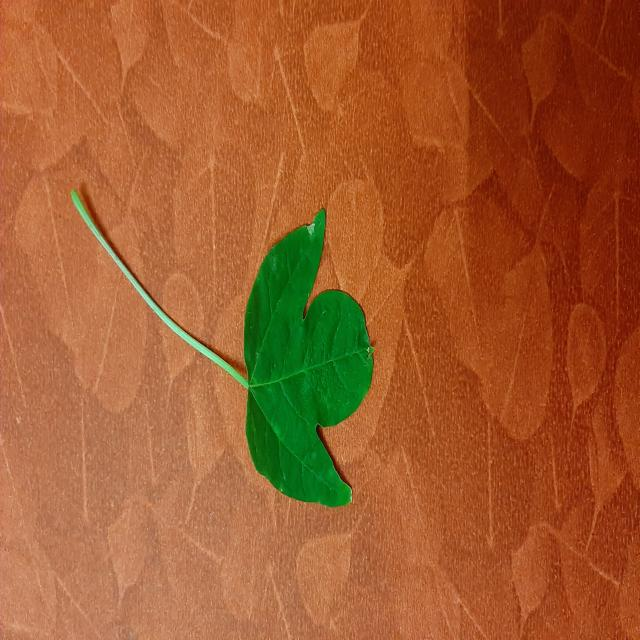papaya: (244, 209, 374, 507)
